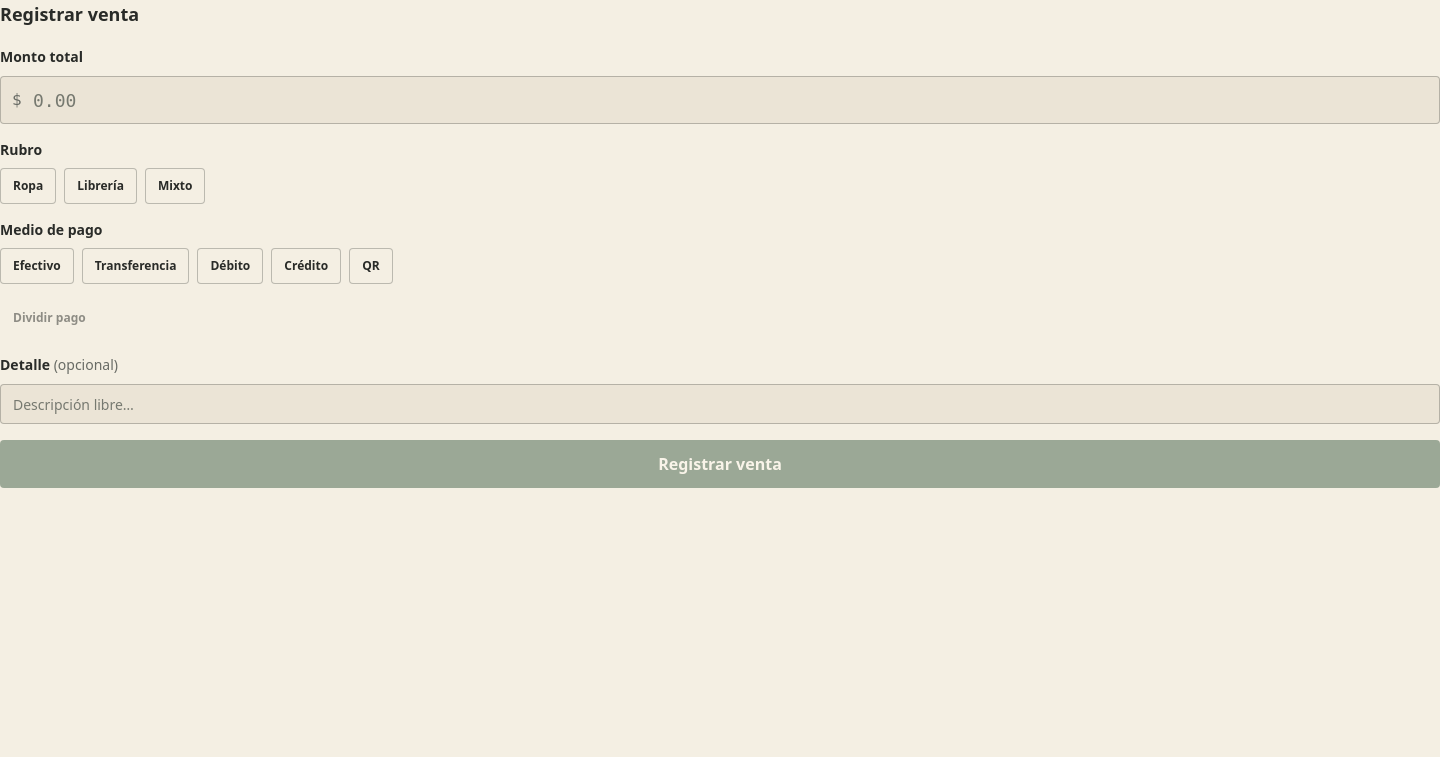
Test: SaleForm › updates the primary remainder live while entering the additional amount
Type "100.00" into the field labelled "Monto total" at (720, 100), box 0,76 -> 1439,124
Click the button "Ropa" at (28, 186), box 0,168 -> 56,204
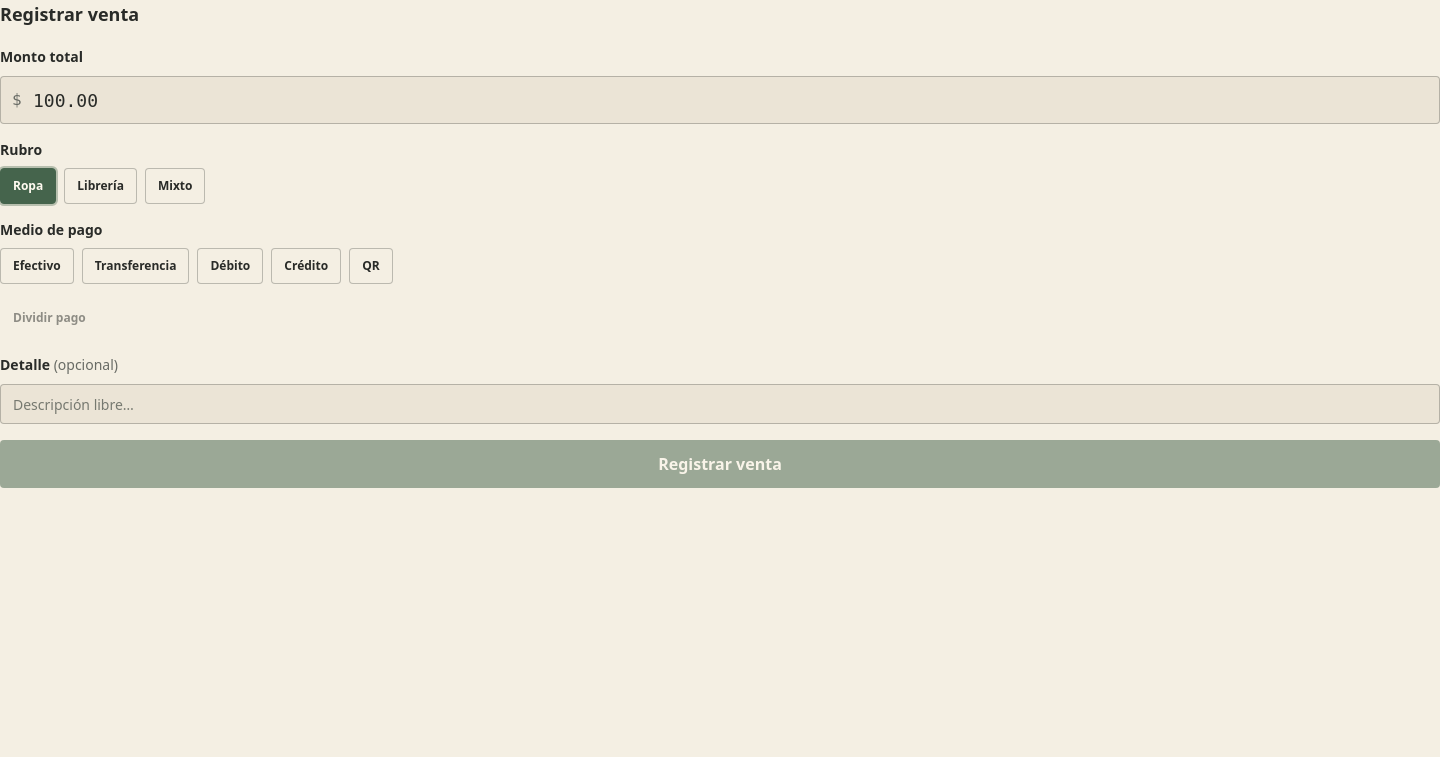
Click the button "Efectivo" at (37, 266), box 0,248 -> 74,284
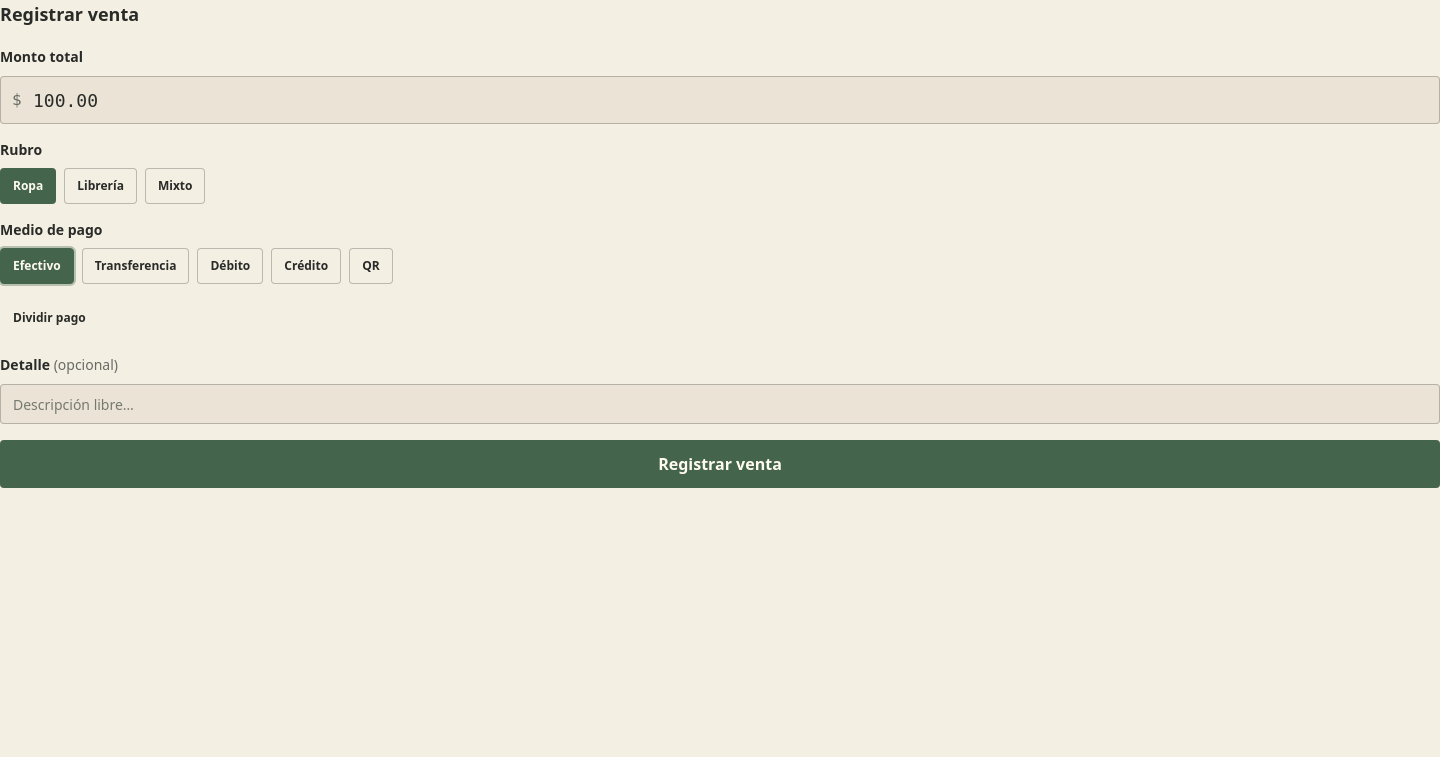
Click the button "Dividir pago" at (49, 318), box 0,300 -> 99,336
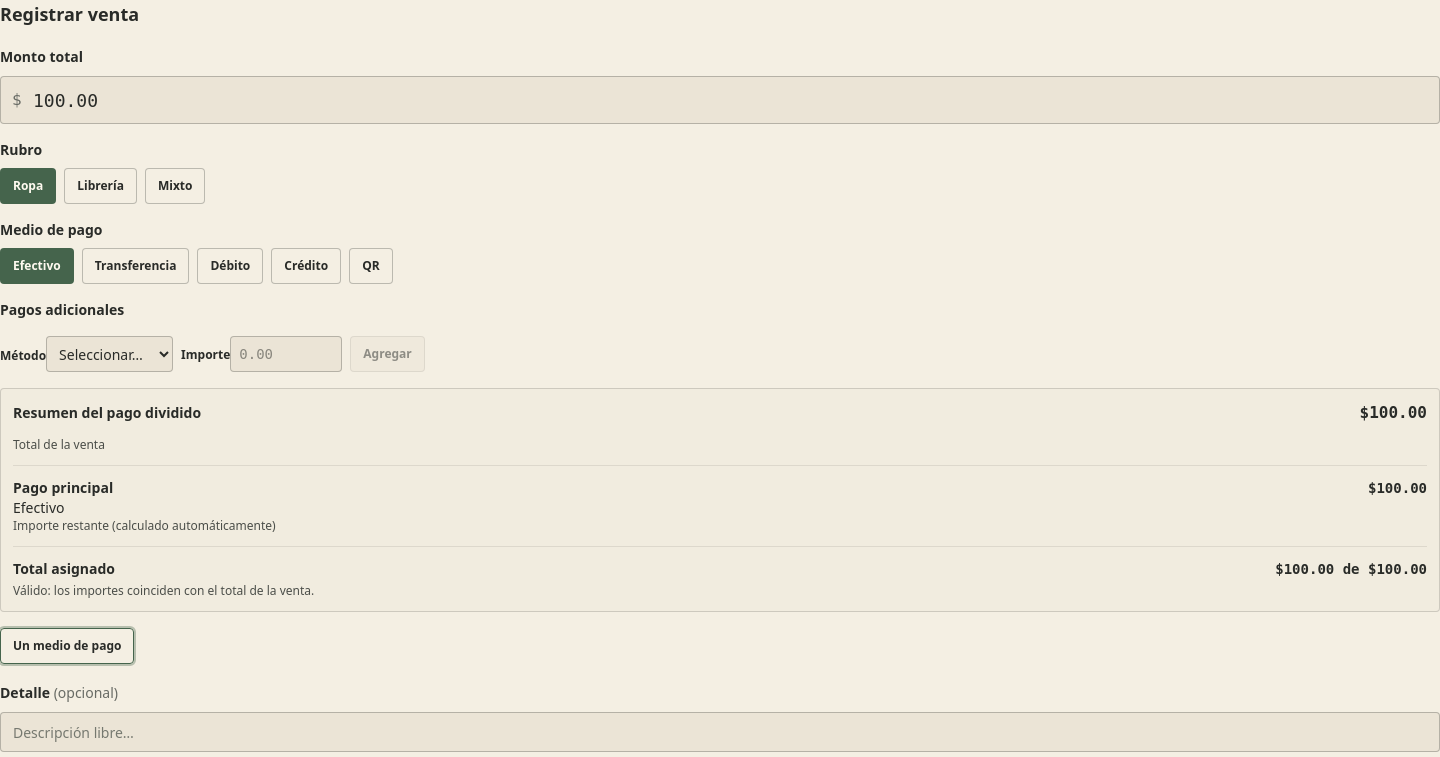
Select "Débito" in the dropdown labelled "Método" at (110, 354), box 46,336 -> 173,372
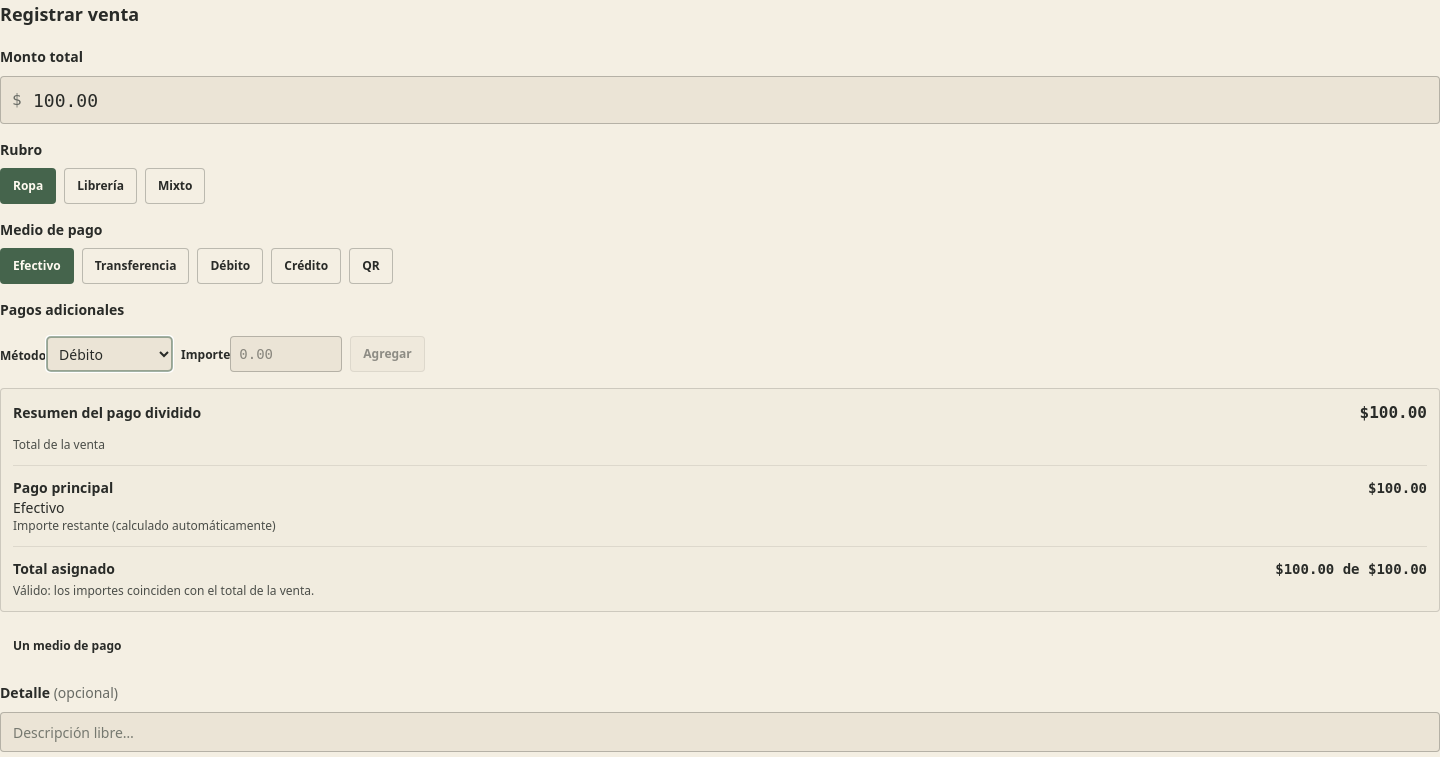
Type "30.00" into the field labelled "Importe" at (286, 354), box 230,336 -> 342,372
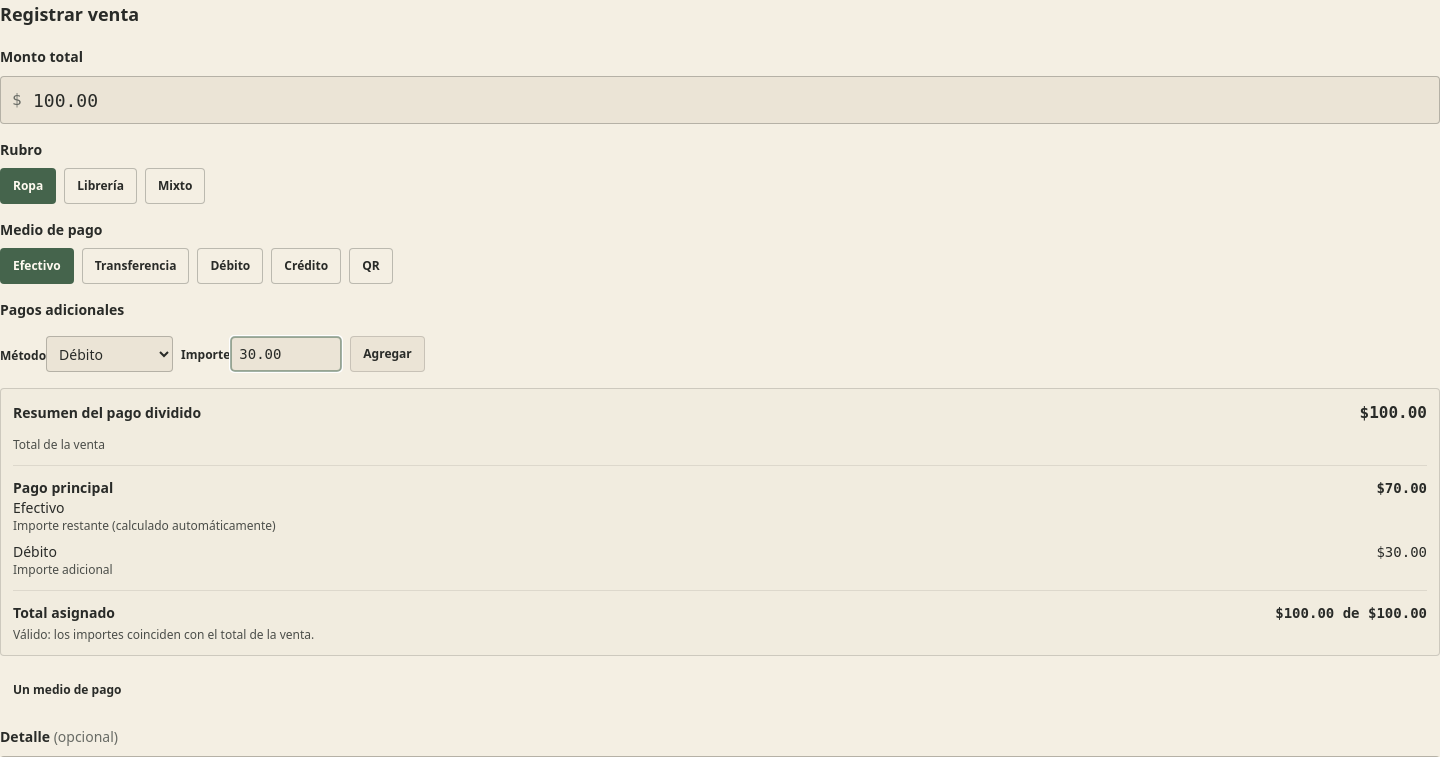
Check: the text "$70.00" is shown, box 1376,478 -> 1427,498
Replace the text in the field labelled "Importe" with "45.00" at (286, 354), box 230,336 -> 342,372
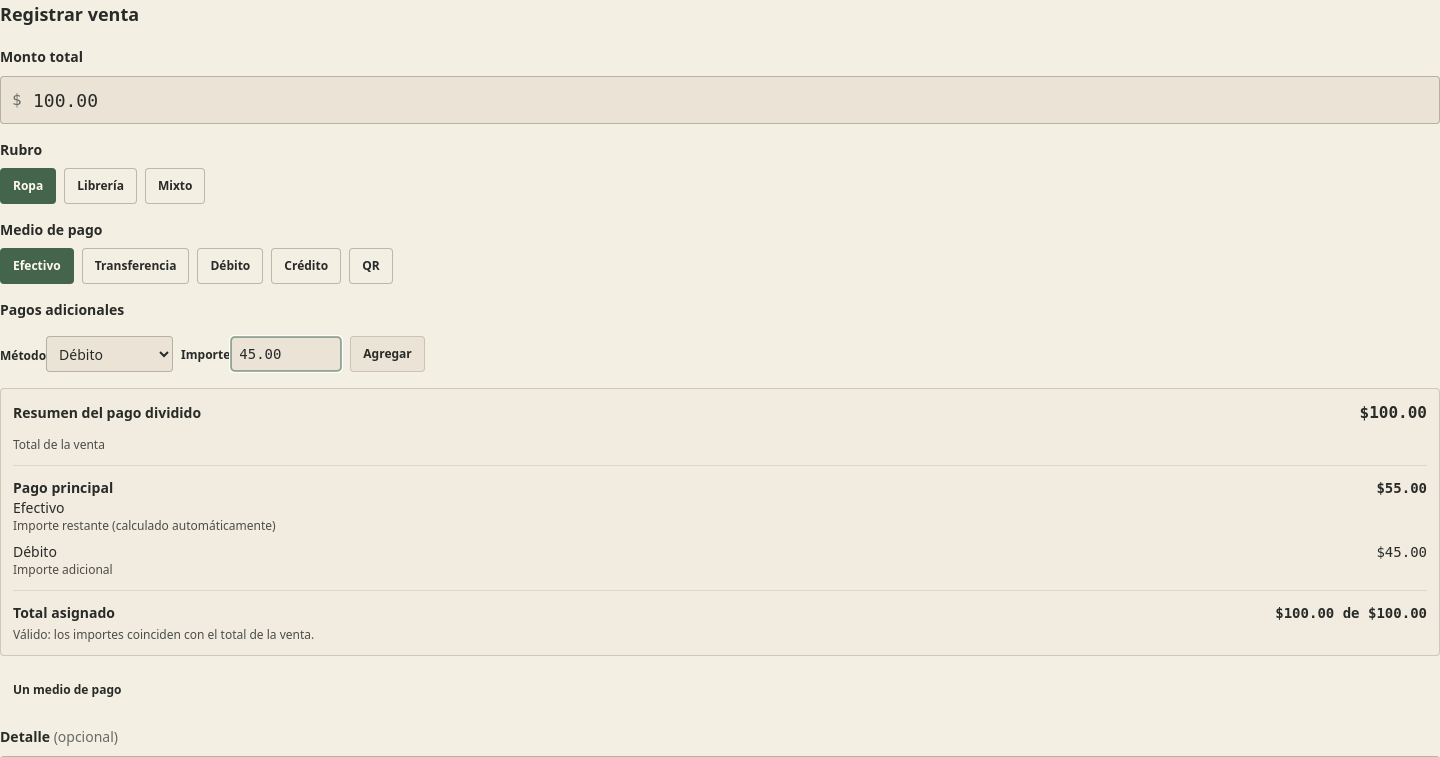
Check: the text "$55.00" is shown, box 1376,478 -> 1427,498
